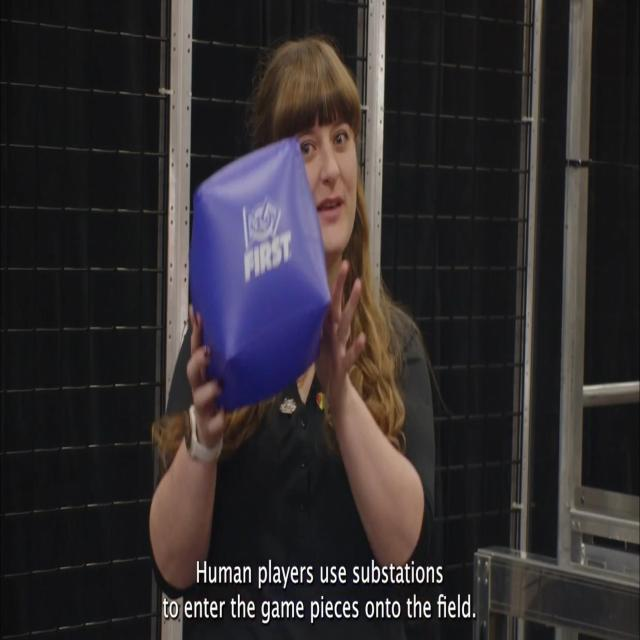frc_cube: (190, 140, 331, 414)
